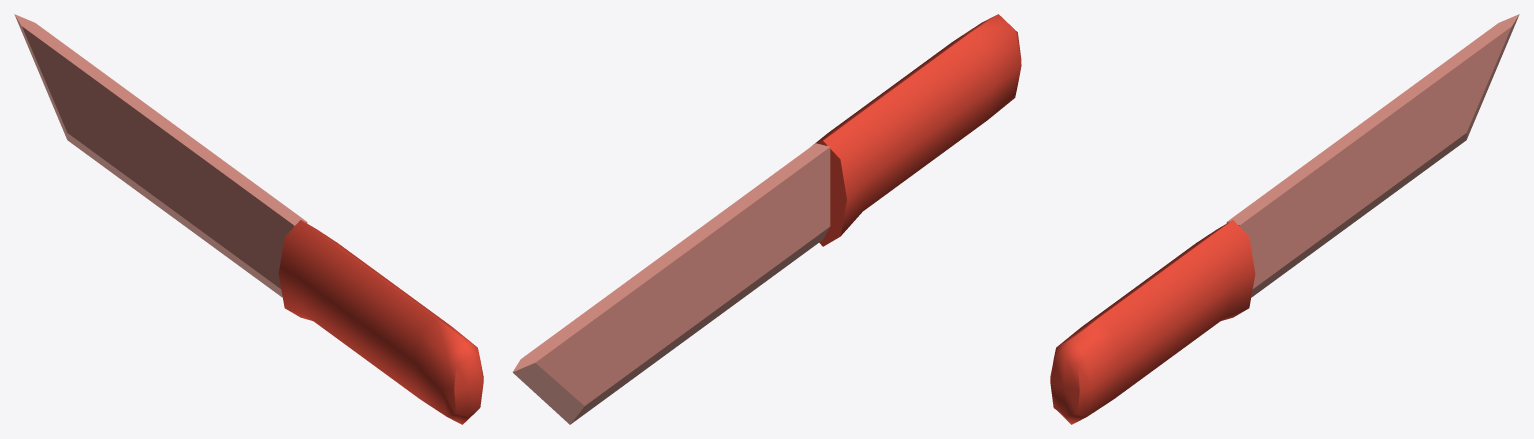
The model's file is Knife.fbx.
3 renders of one model, left to right at view 1: azimuth 30°, elevation 25°; view 2: azimuth 150°, elevation 25°; view 3: azimuth 330°, elevation 25°, orthographic. The views are drawn at different scales.
Visible parts, largest first — view 1: Knife; view 2: Knife; view 3: Knife.
Part boxes in pixels (x1,y1,x2,y2): Knife: [14, 14, 483, 424]; Knife: [512, 14, 1021, 424]; Knife: [1050, 14, 1519, 424].
Bounding box in the file's own units: 3.92 × 8.32 × 70.02.
